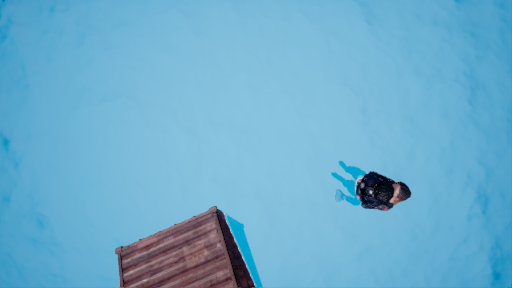person: (327, 159, 417, 218)
